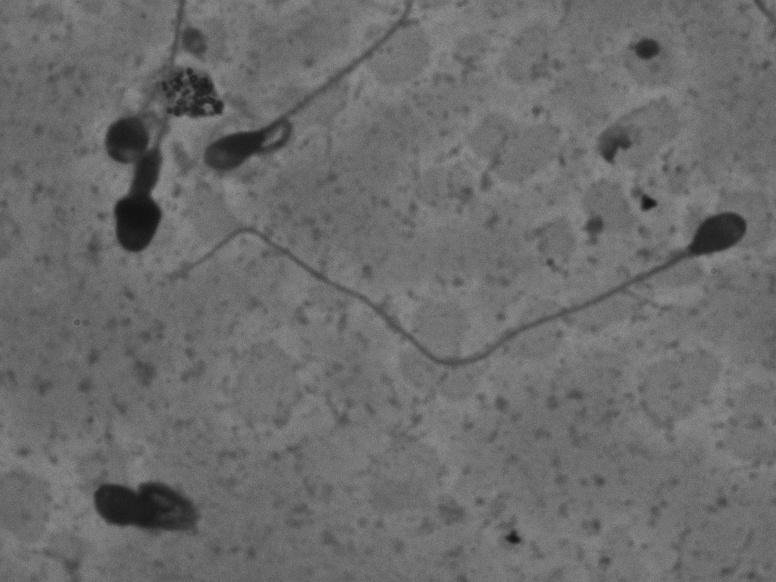Abnormal: (166, 210, 760, 420), (189, 12, 436, 183), (68, 10, 174, 260), (67, 449, 216, 553)
